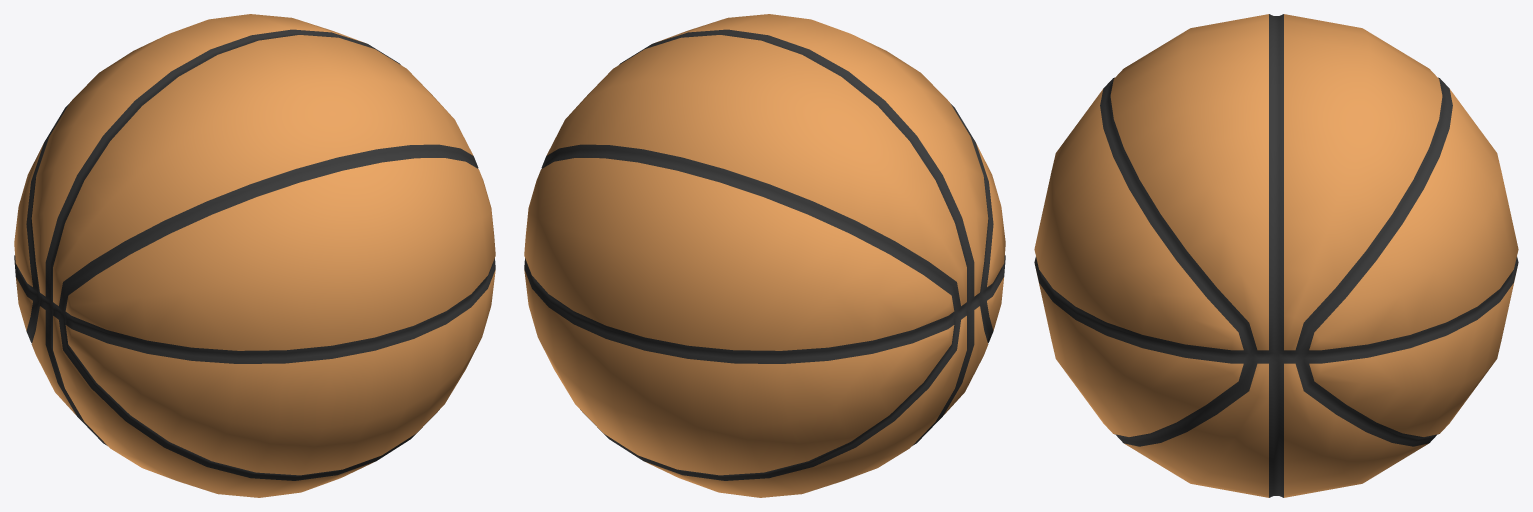
File: Basket Ball.glb
3 views of the same model, side by side, from view 1: azimuth 30°, elevation 25°; view 2: azimuth 150°, elevation 25°; view 3: azimuth 270°, elevation 25° (orthographic).
Parts seen in each view (by area): view 1: Sphere; view 2: Sphere; view 3: Sphere.
Boxes of the visible parts, bbox=[...] form: Sphere: bbox=[14, 14, 495, 497]; Sphere: bbox=[524, 14, 1005, 497]; Sphere: bbox=[1034, 14, 1518, 497].
Size of the model in its own units: 0.3906 by 0.3959 by 0.3959.
